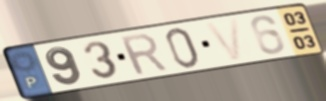0: (164, 25, 202, 70)
3: (82, 40, 120, 81)
6: (248, 14, 287, 56)
9: (44, 44, 85, 88)
R: (117, 31, 172, 77)
V: (202, 17, 245, 63)
